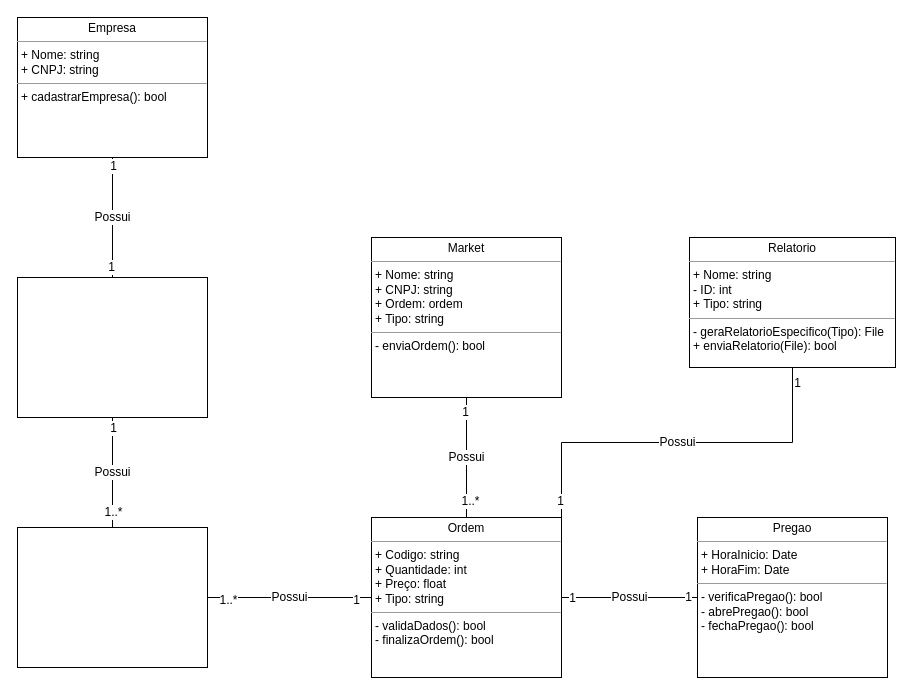
Some shapes in this 913 by 695 pixel diagram are drawn without their labels. The centre of each missing label's shape, as x and y in pixels:
"Ação + Nome: string + Quantidade: int + Preço: float + validaDados(): bool" belongs at (x=112, y=597).
"IPO + Quantidade: int + Preço: float + Codigo: string + gerarIPO()" belongs at (x=112, y=347).
